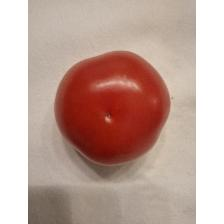Tomate: (54, 48, 174, 170)
